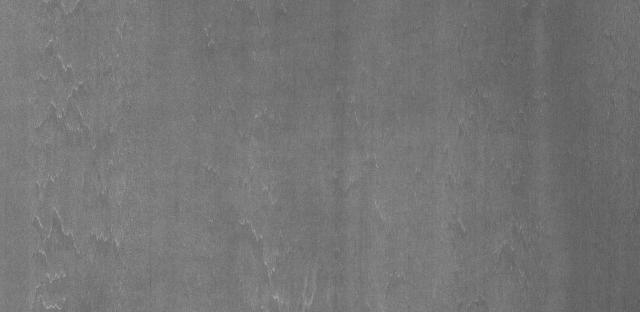silk_spot: (30, 37, 137, 278), (237, 151, 325, 311)
